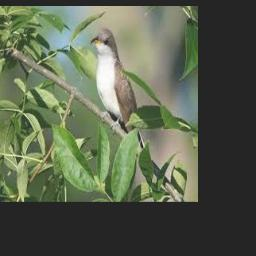Cuckoo: (90, 28, 148, 157)
